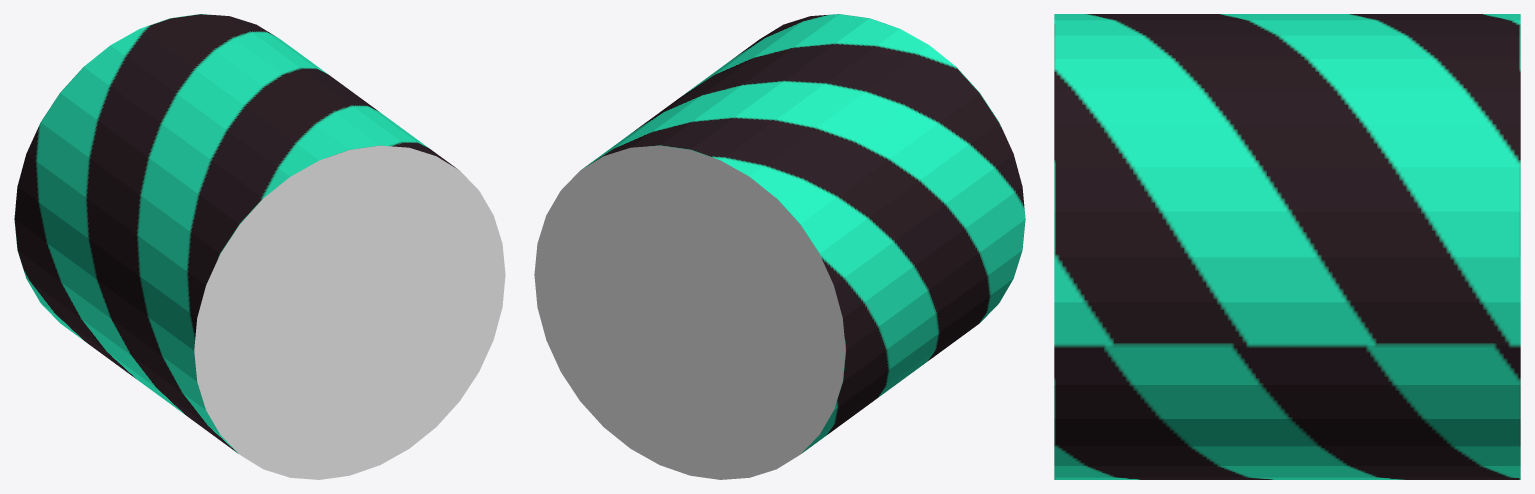
Rendered from hazard_cylinder_val_amber_plaster_c1.obj.
3 views of the same model, side by side, from view 1: azimuth 30°, elevation 25°; view 2: azimuth 150°, elevation 25°; view 3: azimuth 270°, elevation 25° (orthographic). The views are drawn at different scales.
Size of the model in its own units: 1 by 1 by 1.
